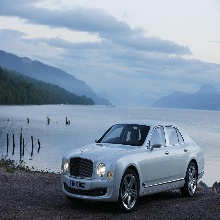no damage: (60, 120, 205, 211)
